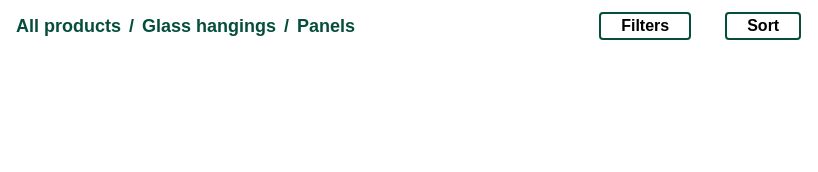
Test case: Catalog panel with breadcrumbs and filters › renders correct nav
Click the button "Filters".
click(645, 26)  # box [599,12,691,40]
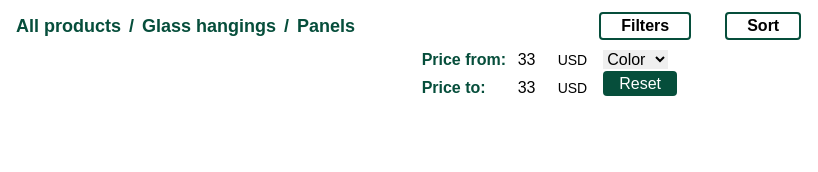
Expected: the link "Panels" is shown, [297,16,355,36]
Expected: the number field labelled "Price from:" is shown, [518,48,558,72]
